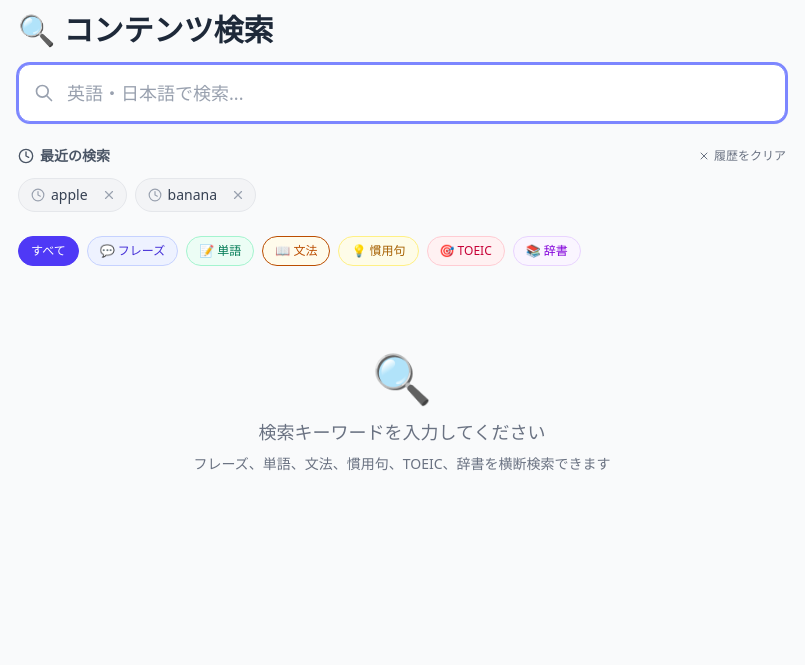
Test: SearchPage › restores the query into the input when a recent-search chip is clicked
This screenshot has width=805, height=665.
Expected: the field named "コンテンツを検索" is empty, top-left (18, 64), bottom-right (786, 122)
Click the button with aria-label "appleを再検索": (57, 195) top-left (19, 179), bottom-right (96, 211)
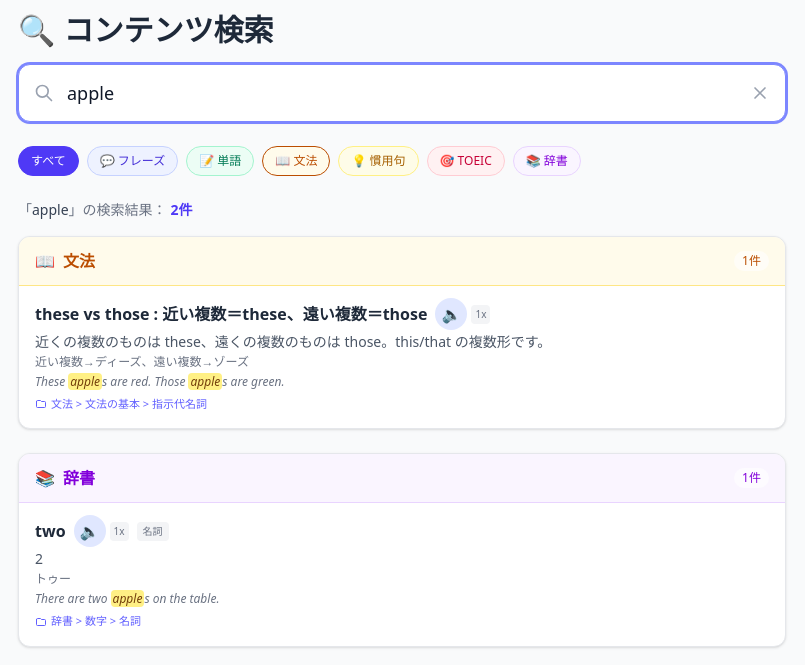
Result: the field named "コンテンツを検索" holds "apple" at top-left (18, 64), bottom-right (786, 122)
